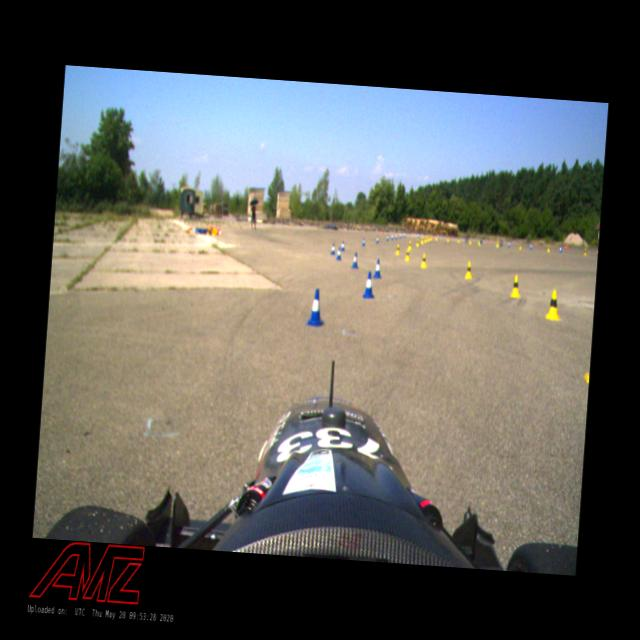blue_cone: (306, 286, 325, 326), (362, 270, 376, 299), (374, 258, 382, 277), (352, 251, 358, 268), (330, 242, 335, 254), (340, 240, 346, 250), (336, 246, 340, 260), (361, 237, 365, 246), (376, 234, 379, 243), (386, 233, 389, 240), (390, 233, 393, 240)
yellow_cone: (544, 288, 562, 321), (510, 274, 521, 298), (464, 260, 473, 279), (420, 252, 428, 268), (404, 248, 410, 261), (394, 243, 399, 255), (407, 240, 412, 248), (415, 238, 419, 246), (420, 236, 424, 243)
